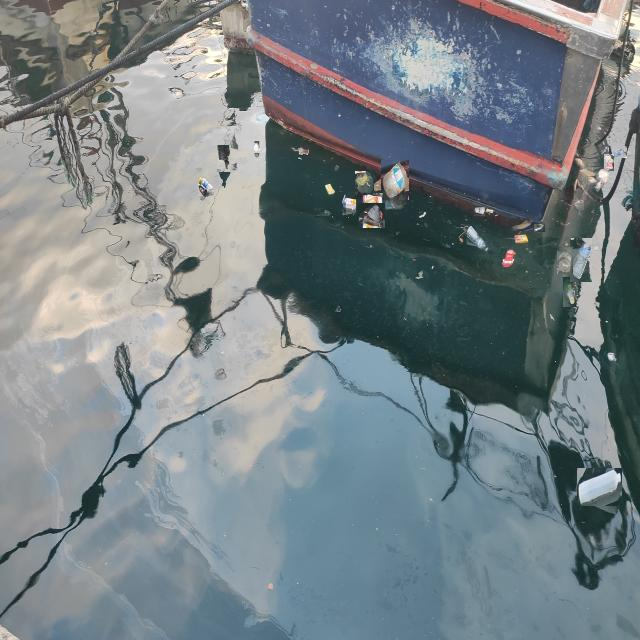Juice box: (341, 194, 357, 214)
Plastic: (511, 218, 533, 231), (314, 208, 332, 218), (607, 350, 617, 363), (414, 269, 424, 280), (534, 224, 545, 232), (334, 303, 342, 314), (485, 207, 494, 215), (419, 211, 427, 220)
Plastic bag: (358, 203, 385, 228), (355, 171, 374, 199), (217, 145, 231, 172), (608, 146, 626, 158)
Plastic bottle: (577, 468, 622, 506), (381, 160, 409, 200), (570, 238, 592, 282), (466, 224, 489, 253), (557, 247, 573, 274), (563, 277, 576, 307), (594, 168, 609, 193), (362, 193, 383, 210), (198, 176, 214, 196), (204, 182, 214, 196), (253, 141, 262, 153)
Plastic cup: (574, 198, 584, 210), (474, 206, 485, 216), (299, 146, 310, 156)
Plastic packaging: (501, 248, 516, 268), (604, 154, 614, 171), (324, 182, 336, 196)
